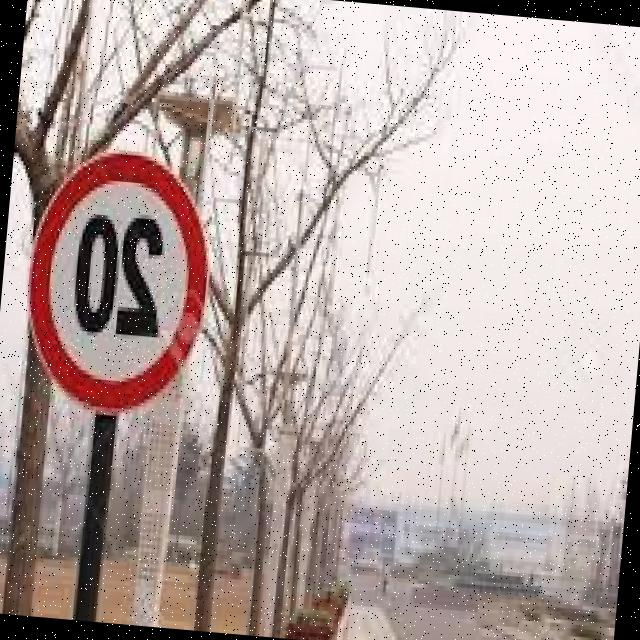speed_limit_20: (14, 133, 230, 424)
